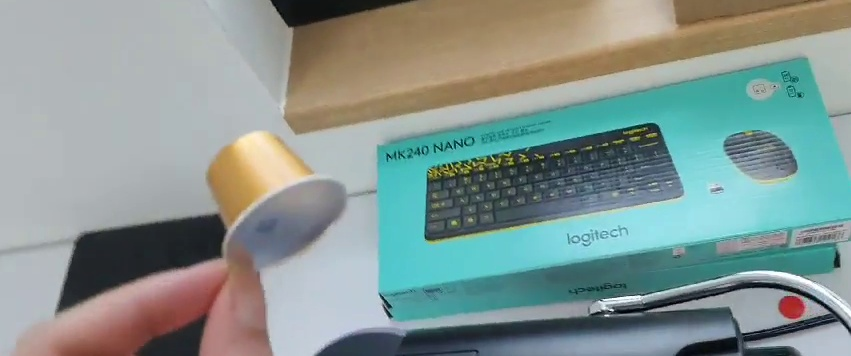capsule_8: (202, 130, 350, 268)
